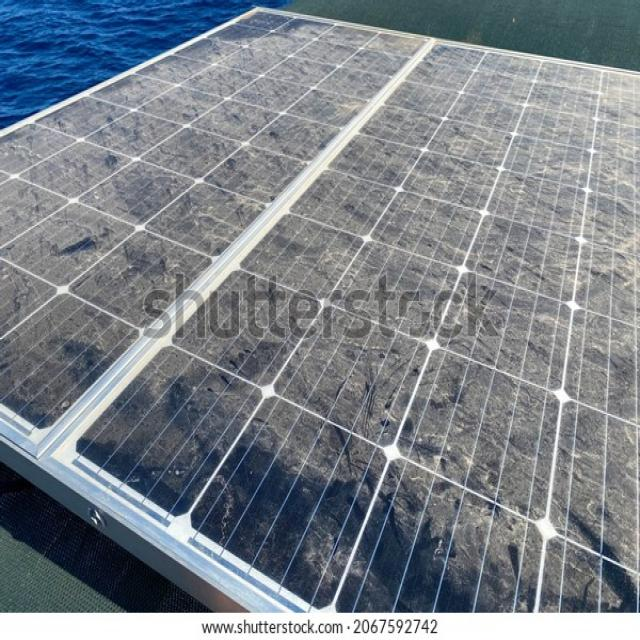dust-solar-panel: (0, 7, 640, 615)
